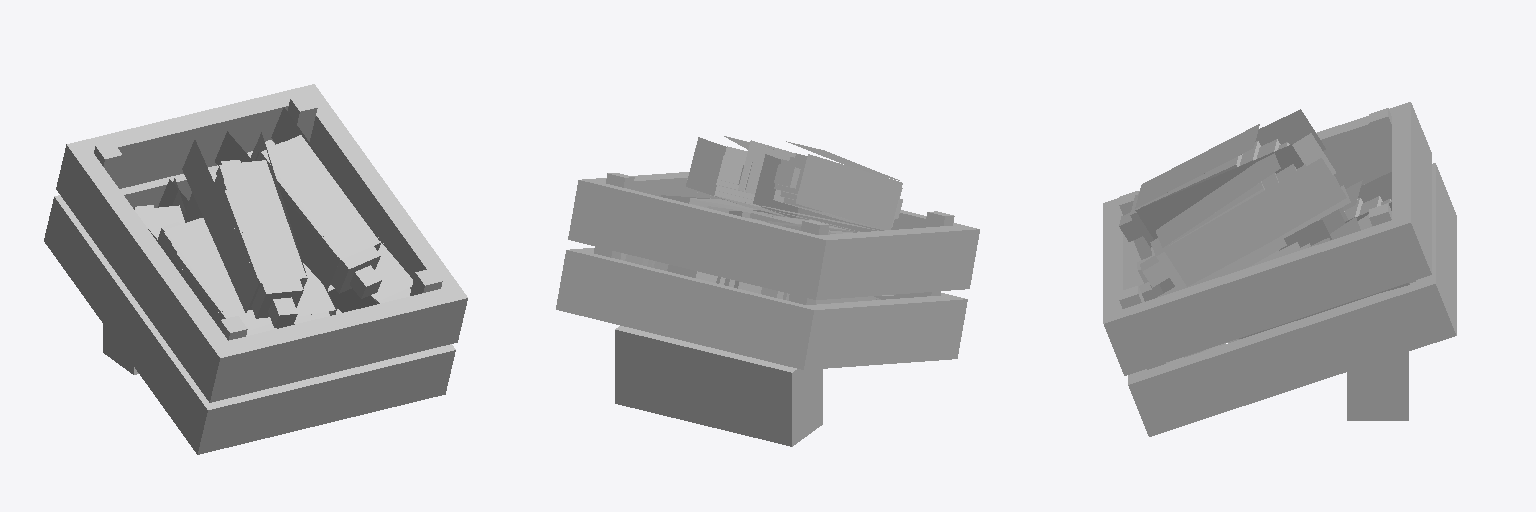
File: 1768_corn_crate.obj
3 views of the same model, side by side, from view 1: azimuth 30°, elevation 25°; view 2: azimuth 150°, elevation 25°; view 3: azimuth 270°, elevation 25° (orthographic).
Parts seen in each view (by area): view 1: CornLeaf1, Plank8, Plank2, Plank9, Plank3, Plank5, Plank11, CornLeaf4, CornD, CornLeaf3, Corn, CornE (+6 smaller); view 2: Block, Plank11, Plank12, Plank9, Plank8, CornLeaf4, CornLeaf3, Plank5, Corn, CornC, Plank6, Plank2 (+3 smaller); view 3: Plank5, Plank6, CornLeaf3, CornLeaf1, Plank11, Plank8, Block, CornLeaf4, Plank2, Plank12, Corn, CornE (+5 smaller).
Boxes of the visible parts, x1=… form: CornLeaf1: x1=135, y1=135, x2=412, y2=330; Plank8: x1=56, y1=140, x2=237, y2=402; Plank2: x1=228, y1=289, x2=450, y2=397; Plank9: x1=44, y1=195, x2=225, y2=454; Plank3: x1=215, y1=348, x2=437, y2=450; Plank5: x1=297, y1=84, x2=467, y2=346; Plank11: x1=84, y1=88, x2=301, y2=188; CornLeaf4: x1=148, y1=131, x2=376, y2=327; CornD: x1=246, y1=246, x2=410, y2=335; CornLeaf3: x1=172, y1=107, x2=412, y2=328; Corn: x1=174, y1=174, x2=411, y2=318; CornE: x1=268, y1=265, x2=381, y2=327; Block: x1=615, y1=326, x2=822, y2=446; Plank11: x1=586, y1=183, x2=815, y2=295; Plank12: x1=573, y1=253, x2=802, y2=365; Plank9: x1=786, y1=295, x2=967, y2=369; Plank8: x1=798, y1=225, x2=979, y2=299; CornLeaf4: x1=654, y1=154, x2=902, y2=304; CornLeaf3: x1=620, y1=137, x2=855, y2=293; Plank5: x1=568, y1=172, x2=723, y2=243; Corn: x1=689, y1=146, x2=884, y2=234; CornC: x1=625, y1=160, x2=800, y2=298; Plank6: x1=556, y1=248, x2=593, y2=313; Plank2: x1=772, y1=208, x2=960, y2=232; Plank5: x1=1103, y1=214, x2=1431, y2=375; Plank6: x1=1128, y1=275, x2=1456, y2=436; CornLeaf3: x1=1135, y1=144, x2=1409, y2=357; CornLeaf1: x1=1135, y1=124, x2=1362, y2=297; Plank11: x1=1392, y1=110, x2=1431, y2=264; Plank8: x1=1103, y1=102, x2=1431, y2=211; Block: x1=1347, y1=352, x2=1408, y2=420; CornLeaf4: x1=1255, y1=109, x2=1391, y2=233; Plank2: x1=1103, y1=206, x2=1143, y2=314; Plank12: x1=1416, y1=171, x2=1456, y2=326; Corn: x1=1140, y1=154, x2=1344, y2=267; CornE: x1=1119, y1=212, x2=1233, y2=342.
Size of the model in its own units: 0.875 by 0.8239 by 1.08.